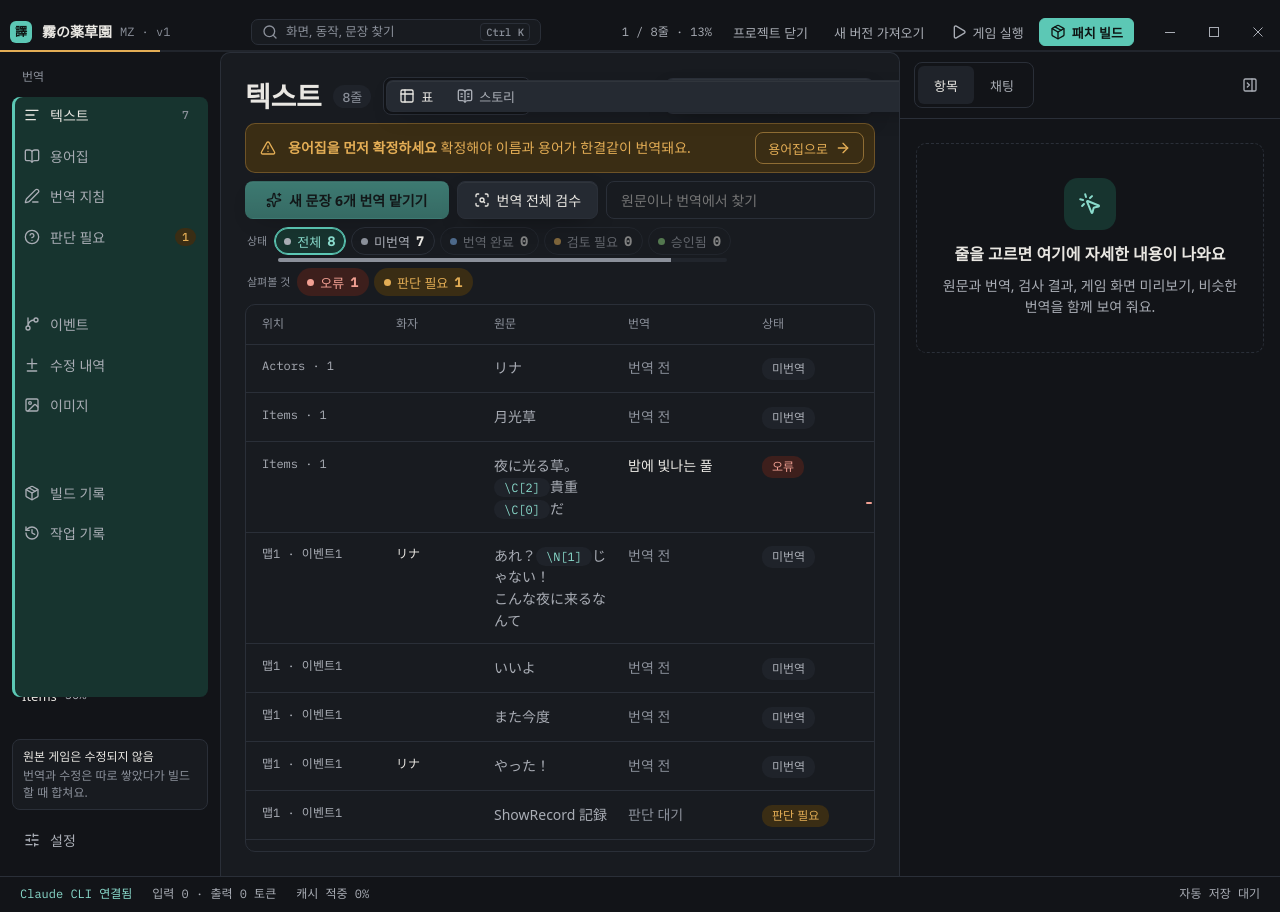
Test case: 패치 빌드 결과
Expected: the text "霧の薬草園" is shown, [42,21,112,43]
What coordinates should you click on to do the following:
click the button "패치 빌드"
I would click on:
 (1086, 32)
Its box is [1039,18,1134,46].
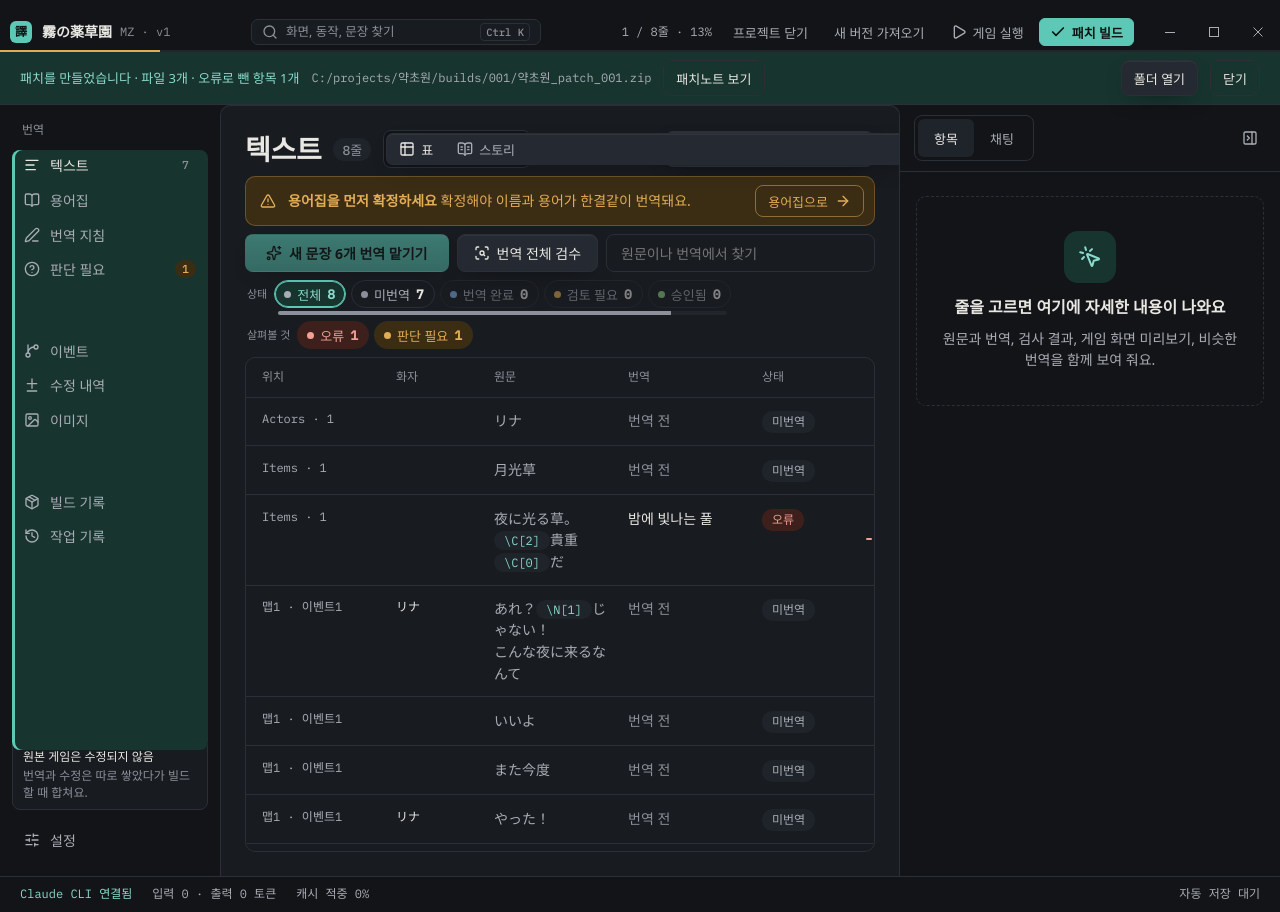
Expected: the text "패치를 만들었습니다 · 파일 3개 · 오류로 뺀 항목 1개" is shown, [20,68,300,88]
